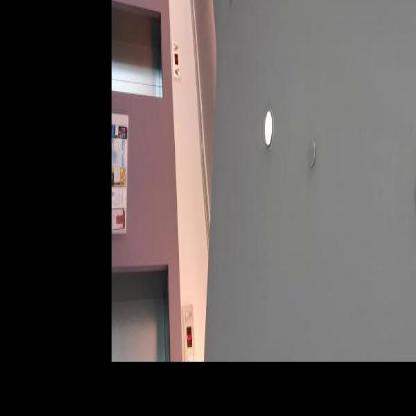light_off: (403, 122, 415, 260)
